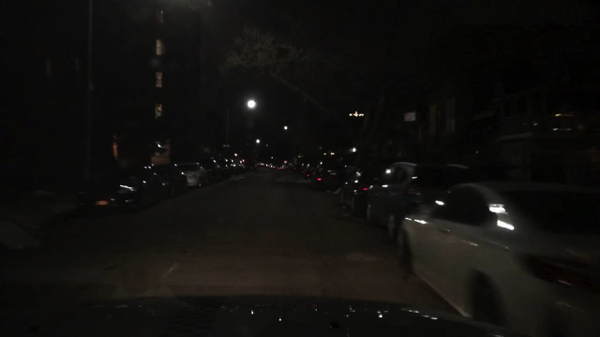car: (396, 177, 599, 336), (366, 162, 469, 239), (73, 165, 163, 215), (337, 169, 384, 214), (147, 163, 188, 196), (175, 161, 208, 190), (313, 162, 344, 187), (196, 157, 220, 184), (303, 163, 319, 181), (215, 157, 229, 177), (246, 156, 257, 171), (237, 160, 246, 175), (228, 159, 236, 175), (281, 160, 289, 171), (289, 161, 295, 171), (270, 162, 278, 169), (296, 162, 302, 171), (257, 160, 264, 167), (265, 161, 270, 168)
